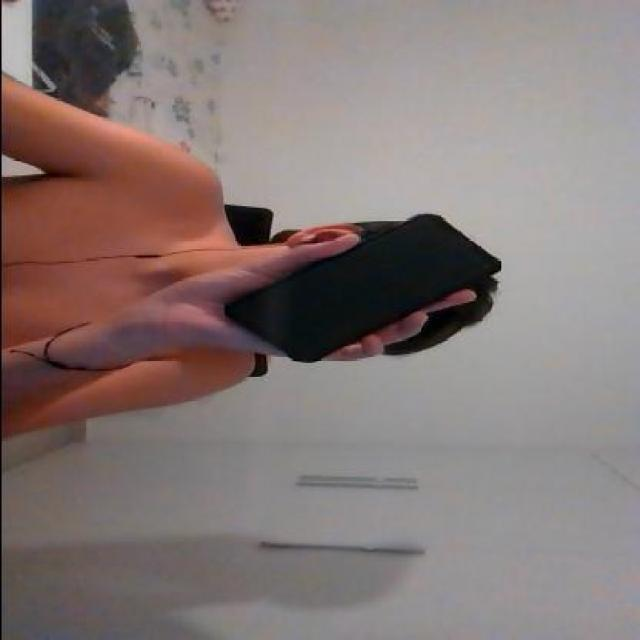phone: (224, 213, 501, 365)
